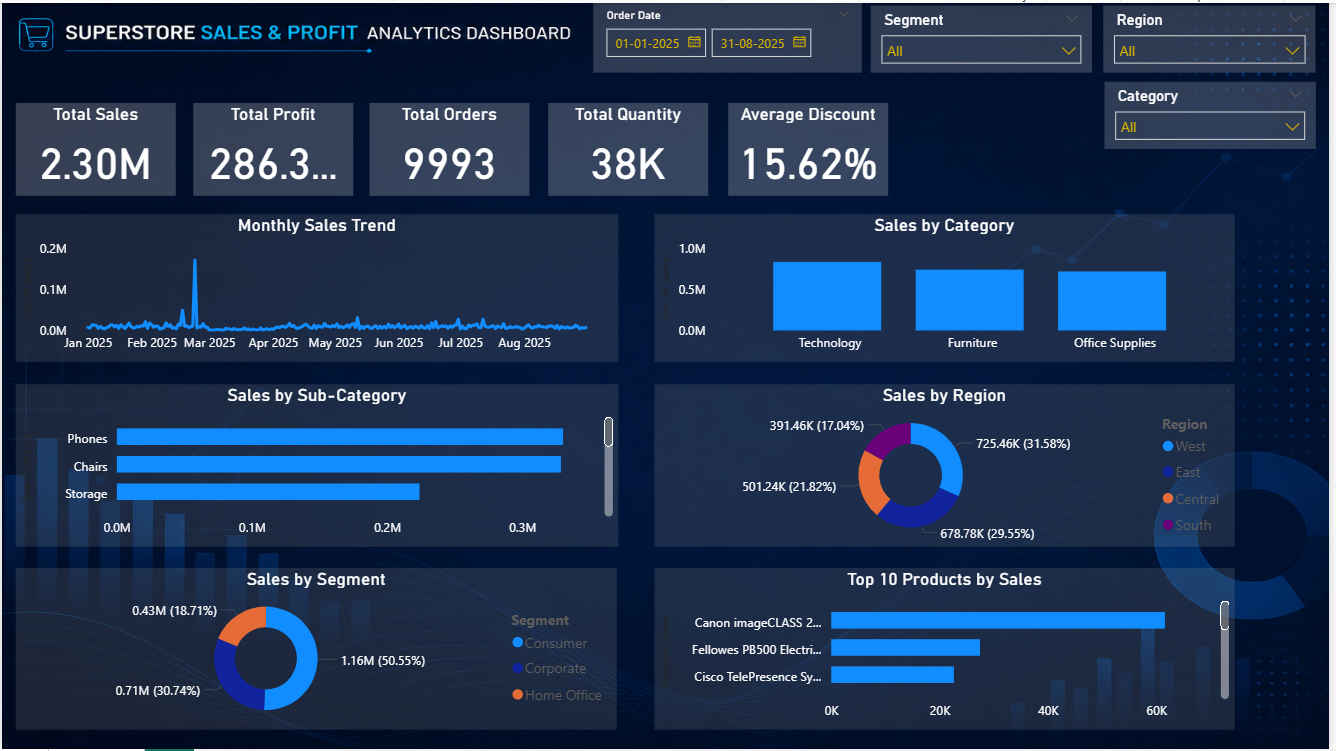

Layout of this report page (visuals, bound fields, positions):
{"tool":"powerbi","page":{"name":"Page 1","canvas":[1280,720],"ordinal":0},"visuals":[{"type":"card","title":"Total Sales","fields":{"Values":["Sum(Table1.Sales)"]},"box":[13.3,96.5,154.4,89.3],"z":0},{"type":"card","title":"Total Profit","fields":{"Values":["Sum(Table1.Profit)"]},"box":[184.6,96.5,154.4,89.3],"z":1000},{"type":"card","title":"Total Quantity","fields":{"Values":["Sum(Table1.Quantity)"]},"box":[527.2,96.5,154.4,89.3],"z":2000},{"type":"card","title":"Total Orders","fields":{"Values":["CountNonNull(Table1.Order ID)"]},"box":[354.7,96.5,154.4,89.3],"z":3000},{"type":"card","title":"Average Discount","fields":{"Values":["Avg(Table1.Discount)"]},"box":[700.9,96.5,154.4,89.3],"z":4000},{"type":"lineChart","title":"Monthly Sales Trend","fields":{"Y":["Sum(Table1.Sales)"],"Category":["Table1.Order Date"]},"box":[13.3,203.9,581.5,142.4],"z":5000},{"type":"columnChart","title":" Sales by Category","fields":{"Category":["Table1.Category"],"Y":["Sum(Table1.Sales)"]},"box":[629.8,203.9,559.8,142.4],"z":6000},{"type":"barChart","title":"Sales by Sub-Category","fields":{"Category":["Table1.Sub-Category"],"Y":["Sum(Table1.Sales)"]},"box":[13.3,368,581.5,156.8],"z":7000},{"type":"donutChart","title":"Sales by Region","fields":{"Y":["Sum(Table1.Sales)"],"Category":["Table1.Region"]},"box":[629.8,368,559.8,156.8],"z":8000},{"type":"donutChart","title":"Sales by Segment","fields":{"Category":["Table1.Segment"],"Y":["Sum(Table1.Sales)"]},"box":[13.3,545.3,580.3,155.6],"z":9000},{"type":"barChart","title":"Top 10 Products by Sales","fields":{"Category":["Table1.Product Name"],"Y":["Sum(Table1.Sales)"]},"box":[629.8,545.3,559.8,155.6],"z":10000},{"type":"slicer","title":"Region","fields":{"Values":["Table1.Region"]},"box":[1062.9,2.4,205.1,65.1],"z":11000},{"type":"slicer","fields":{"Values":["Table1.Order Date"]},"box":[570.6,0,259.4,67.6],"z":12000},{"type":"slicer","fields":{"Values":["Table1.Category"]},"box":[1064.1,76,203.9,65.1],"z":13000},{"type":"slicer","fields":{"Values":["Table1.Segment"]},"box":[838.5,2.4,213.5,65.1],"z":14000}]}

Visuals, with their boxes in screenshot pixels (x1, y1, x2, y2), scaled from the page's 1280x720 canvas onto the 1336x751 screenshot:
"Total Sales" card: rect(14, 101, 175, 194)
"Total Profit" card: rect(193, 101, 354, 194)
"Total Quantity" card: rect(550, 101, 711, 194)
"Total Orders" card: rect(370, 101, 531, 194)
"Average Discount" card: rect(732, 101, 893, 194)
"Monthly Sales Trend" lineChart: rect(14, 213, 621, 361)
" Sales by Category" columnChart: rect(657, 213, 1242, 361)
"Sales by Sub-Category" barChart: rect(14, 384, 621, 547)
"Sales by Region" donutChart: rect(657, 384, 1242, 547)
"Sales by Segment" donutChart: rect(14, 569, 620, 731)
"Top 10 Products by Sales" barChart: rect(657, 569, 1242, 731)
"Region" slicer: rect(1109, 3, 1323, 70)
slicer - Table1.Order Date: rect(596, 0, 866, 71)
slicer - Table1.Category: rect(1111, 79, 1323, 147)
slicer - Table1.Segment: rect(875, 3, 1098, 70)
